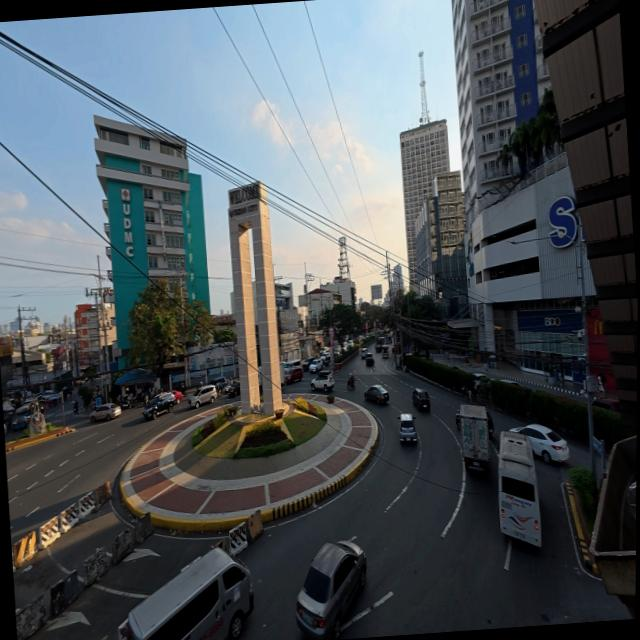Jeepneys: (12, 400, 39, 431), (382, 345, 388, 358), (386, 333, 393, 344)
bus: (498, 432, 541, 546)
car: (296, 541, 367, 639), (511, 424, 569, 463), (143, 392, 176, 419), (189, 385, 218, 408), (91, 403, 121, 422), (399, 413, 418, 443), (364, 384, 389, 403), (412, 388, 430, 411), (311, 373, 334, 391), (593, 397, 620, 412), (285, 367, 303, 384), (474, 372, 490, 390), (212, 376, 228, 393), (226, 380, 240, 397), (301, 356, 315, 372), (486, 410, 494, 436), (499, 378, 522, 387), (309, 358, 323, 372), (171, 390, 183, 404), (365, 354, 374, 366), (320, 355, 329, 367), (359, 346, 367, 358), (374, 342, 382, 353)
motorcycle: (118, 394, 132, 410), (346, 376, 355, 390), (74, 402, 78, 414)
trucks: (460, 404, 489, 470)
vans: (120, 549, 254, 639), (284, 360, 302, 372)
